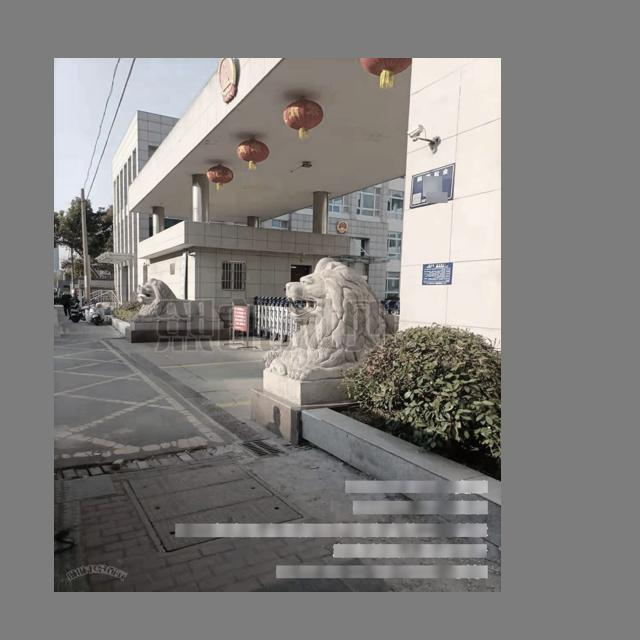good: (120, 457, 312, 557)
